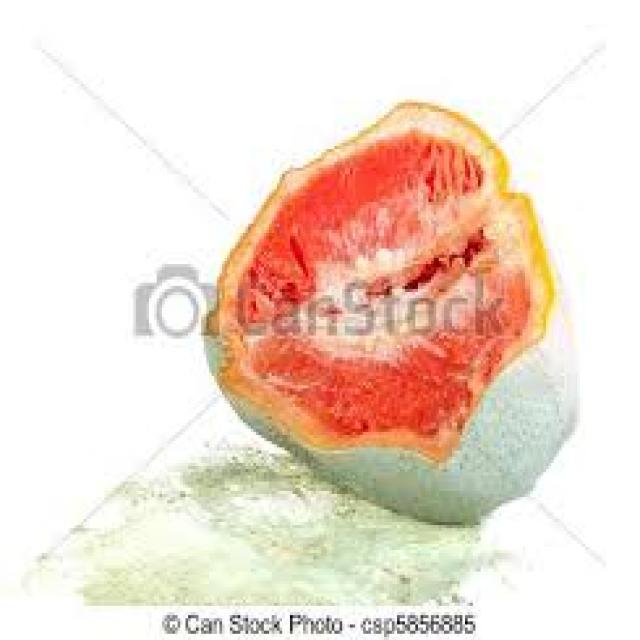organic waste: (201, 99, 575, 522)
